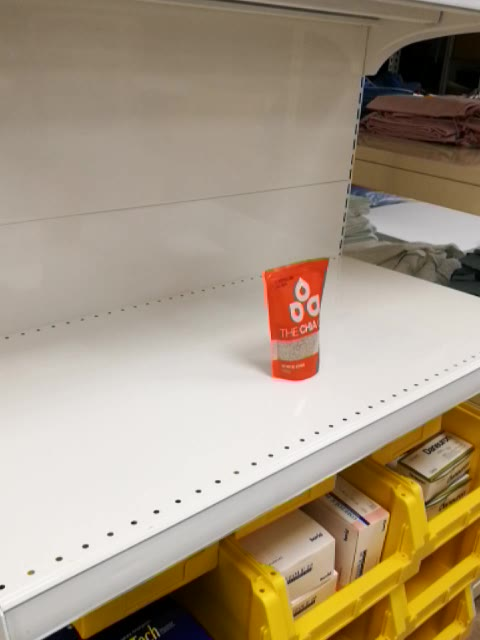whitechia: (261, 253, 330, 381)
